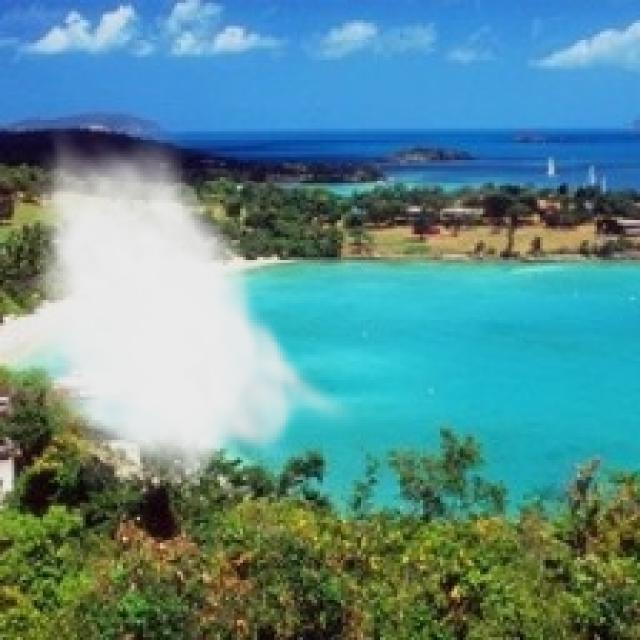Smoke: (17, 122, 360, 498)
